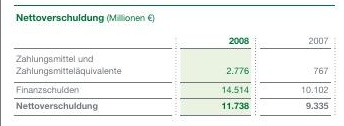table: (0, 0, 344, 126)
